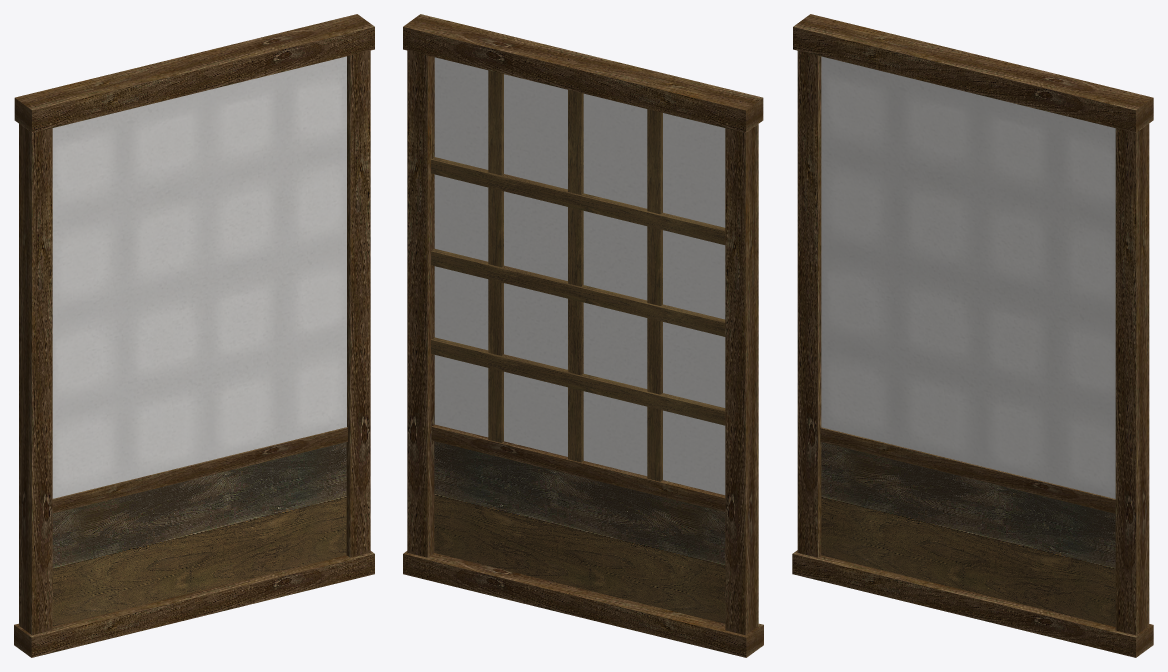
Rendered from fusuma.fbx.
The picture shows the model from 3 angles, left to right: view 1: azimuth 30°, elevation 25°; view 2: azimuth 150°, elevation 25°; view 3: azimuth 330°, elevation 25°; orthographic projection.
Visible parts, largest first — view 1: Fusuma; view 2: Fusuma; view 3: Fusuma.
Part boxes in pixels (left/top/right/bottom): Fusuma: left=14, top=14, right=374, bottom=657; Fusuma: left=403, top=14, right=763, bottom=657; Fusuma: left=792, top=14, right=1153, bottom=657.
Bounding box in the file's own units: 130 × 197 × 11.45.
